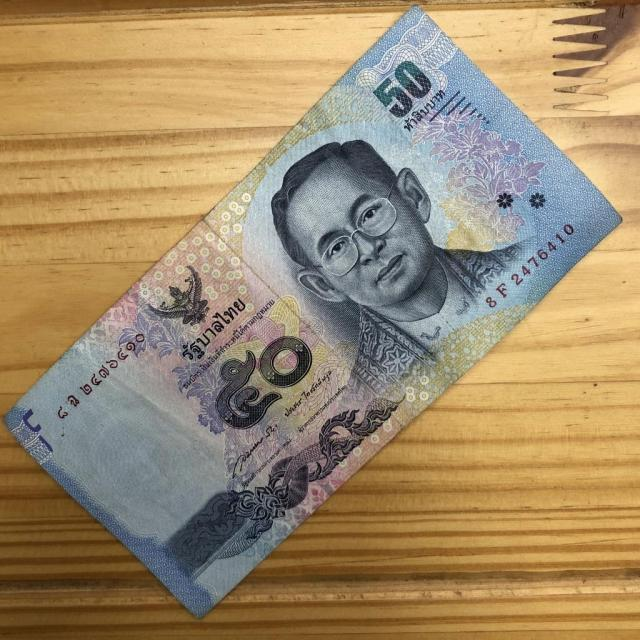THAI50: (5, 8, 622, 621)
